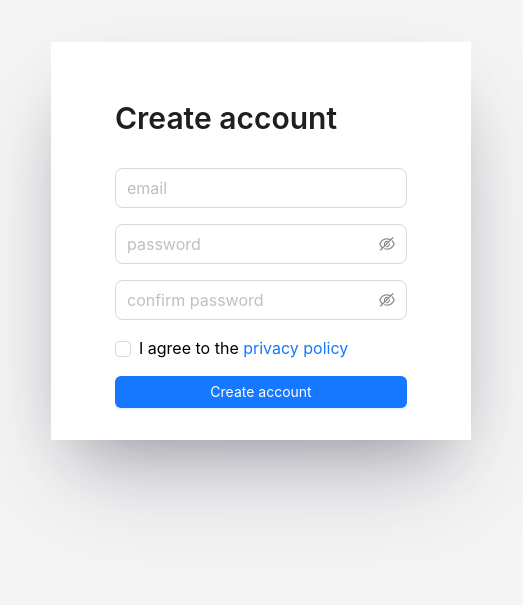
Test: Validation errors unit tests › Show validation error in case of too short password
The width and height of the screenshot is (523, 605).
Expected: the text "The password must be longer than 6 symbols" is not shown
Type "ss" into the password field with placeholder "password". click: (251, 244)
box: [127,232,375,256]
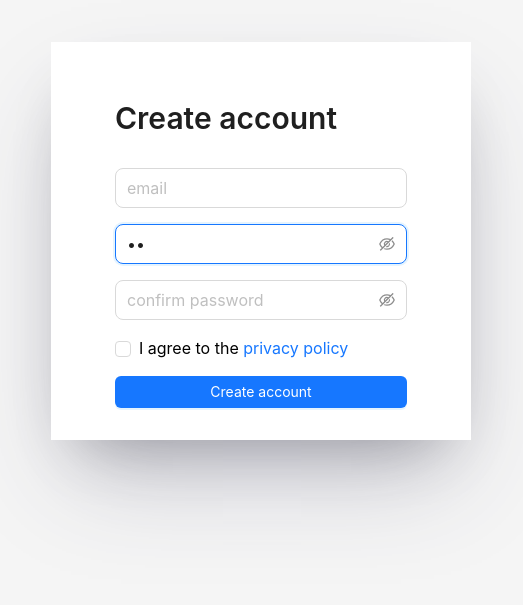
Click the button "Create account". click: (261, 392)
box: [115,376,407,408]
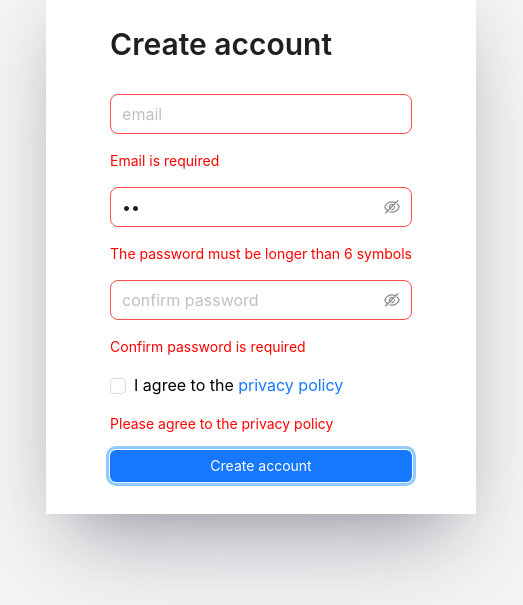
Result: the text "The password must be longer than 6 symbols" is shown at [110,243,412,264]
